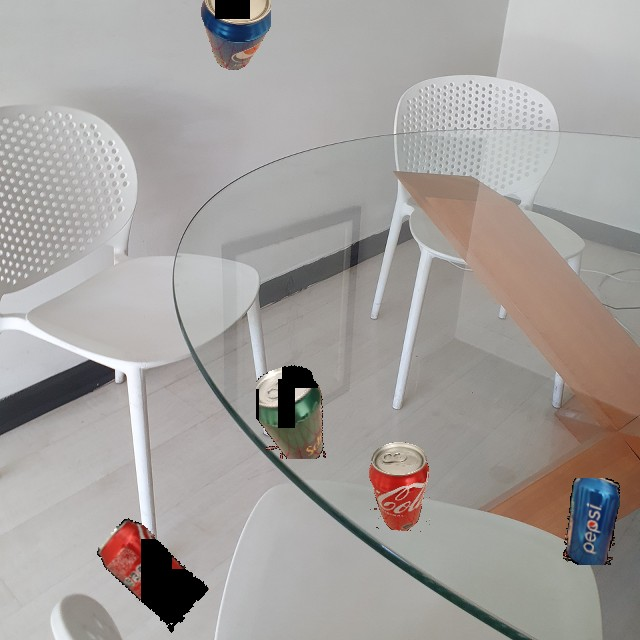coca cola: (94, 511, 216, 634), (368, 442, 430, 532)
pepsi: (563, 478, 620, 565), (201, 0, 271, 70)
schweppes: (256, 363, 328, 459)
